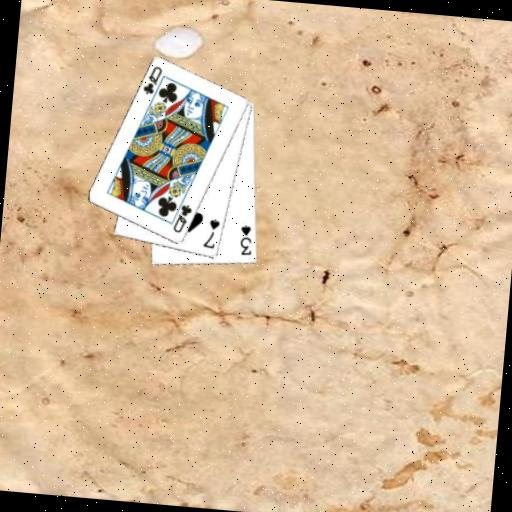3S: (237, 222, 256, 258)
7S: (201, 215, 222, 251)
QC: (140, 62, 165, 97), (170, 201, 195, 235)
